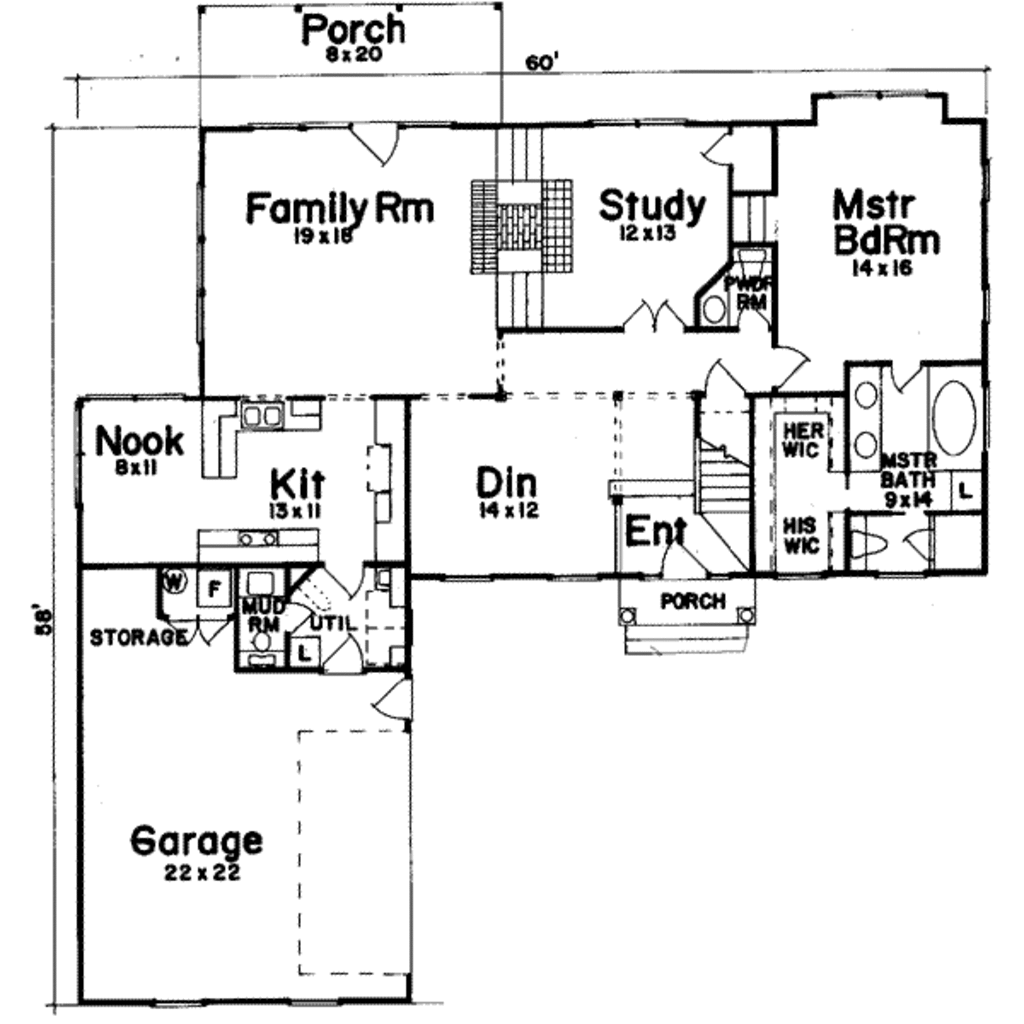door: (349, 119, 406, 173), (770, 333, 814, 393), (616, 298, 683, 337), (316, 630, 362, 683), (699, 355, 754, 396), (370, 680, 415, 730), (321, 557, 368, 600), (695, 120, 728, 170)
kitchen_bar: (199, 396, 325, 482)
small_sink: (840, 363, 883, 473)
stairs: (689, 397, 756, 571)
tub: (923, 357, 988, 471)
windows: (191, 170, 211, 351), (572, 107, 693, 133), (823, 85, 935, 104)
